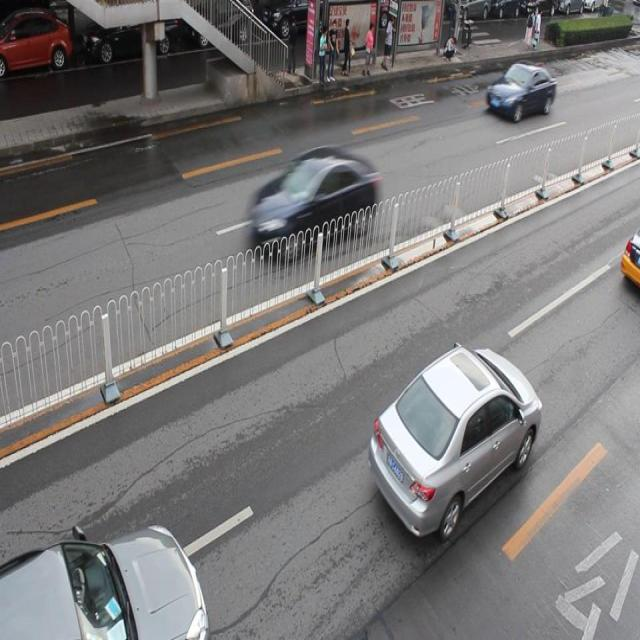car: (368, 342, 540, 539), (1, 521, 209, 640), (250, 147, 379, 257), (81, 1, 176, 68), (1, 12, 72, 79), (484, 62, 555, 123), (184, 2, 254, 48), (258, 2, 328, 48)
